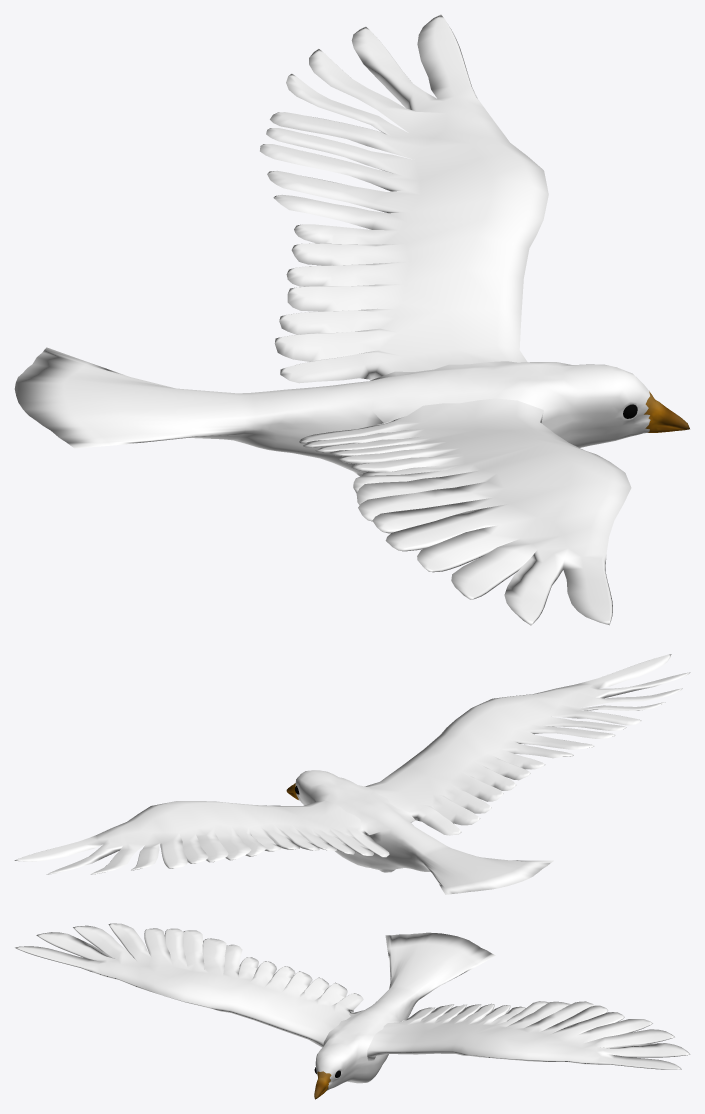
The model's file is dove3.obj.
The picture shows the model from 3 angles, top to bottom: view 1: azimuth 30°, elevation 25°; view 2: azimuth 150°, elevation 25°; view 3: azimuth 270°, elevation 25°; orthographic projection. The views are drawn at different scales.
Parts seen in each view (by area): view 1: dove_eye3; view 2: dove_eye3; view 3: dove_eye3.
Boxes of the visible parts, left/top/right/bottom form: dove_eye3: left=14, top=14, right=689, bottom=625; dove_eye3: left=14, top=654, right=690, bottom=894; dove_eye3: left=14, top=923, right=690, bottom=1099.
Bounding box in the file's own units: 0.4256 × 0.1034 × 0.7477.
2 materials, 1 textured.
